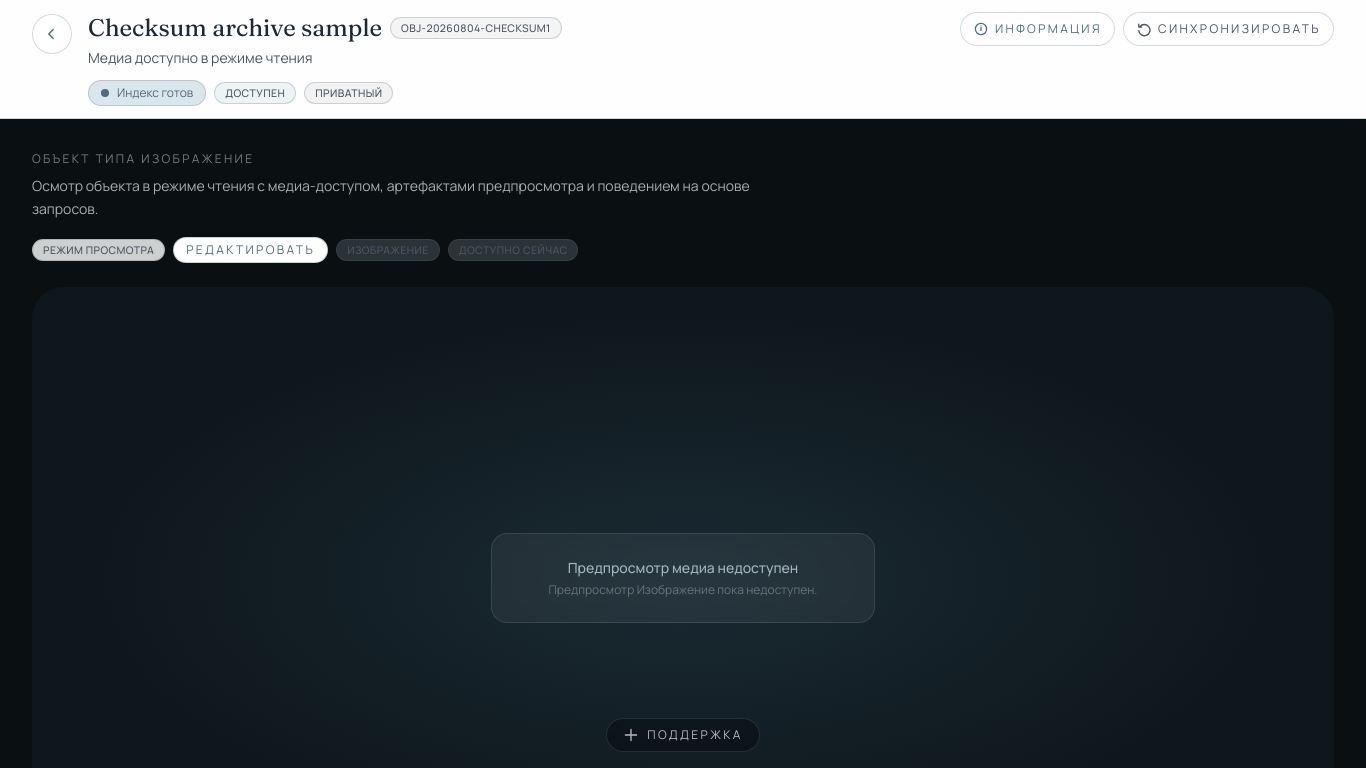
Scenario: object detail count localization › renders Russian plural forms for artifact, file, request, and page counts
The image size is (1366, 768).
Click the button "Поддержка" at x=683, y=735, box [606,718,760,752]
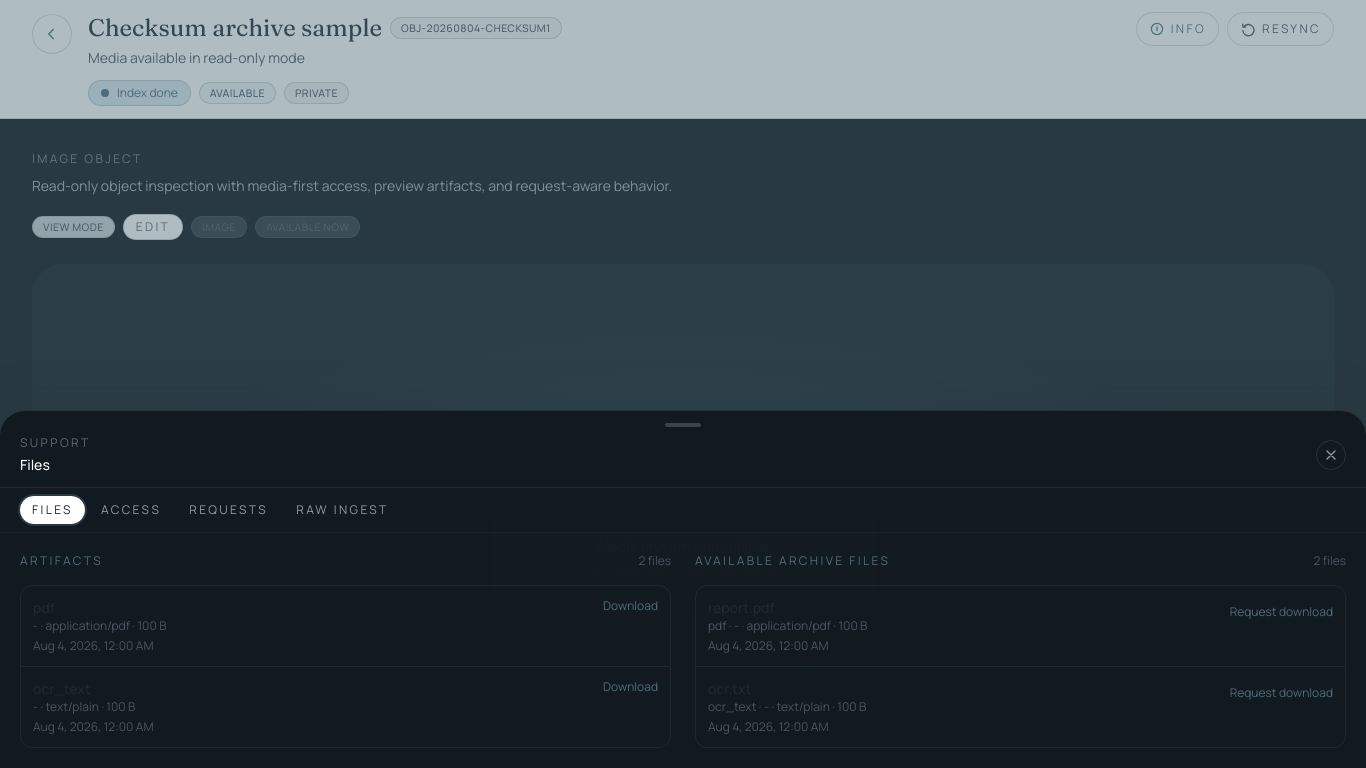
expect the 1st text "2 файла" is shown: met, box [638,553,671,569]
expect the text "2 файла" in the row of "Available archive files" is shown: met, box [1313,553,1346,569]
